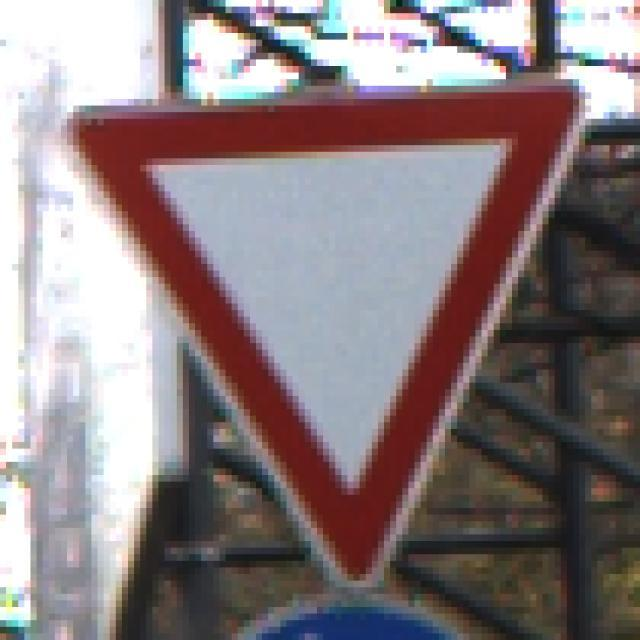give way: (59, 84, 585, 589)
